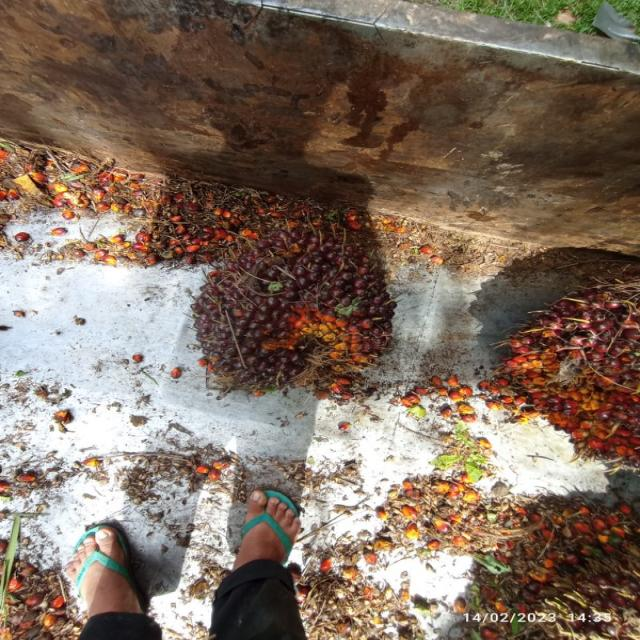fraksi 1: (192, 231, 400, 390)
